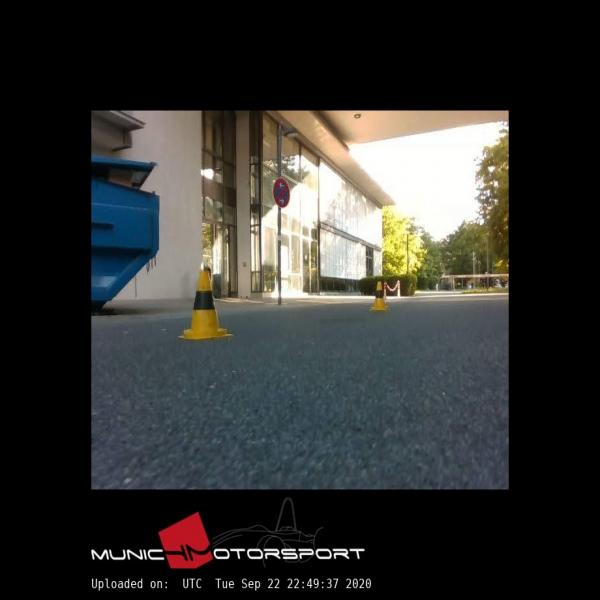yellow_cone: (179, 272, 233, 340), (369, 281, 389, 310)
